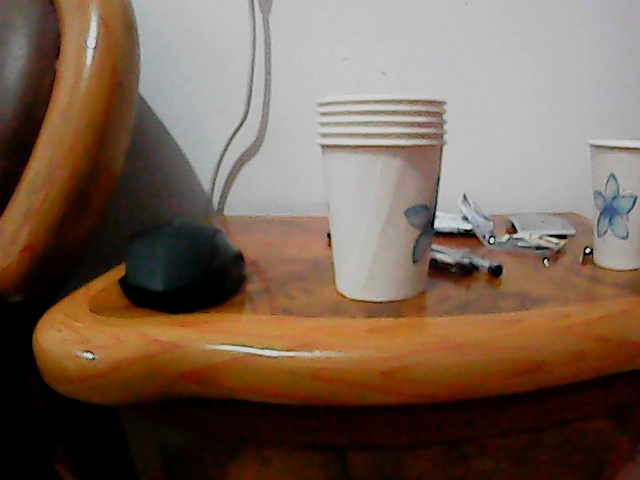cup: (315, 93, 438, 302)
mouse: (115, 219, 245, 309)
